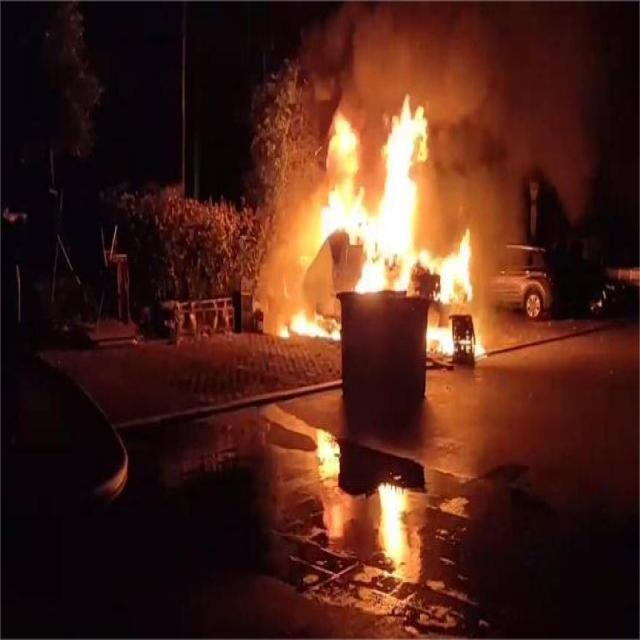Fire: (322, 96, 427, 294), (426, 230, 474, 306), (281, 309, 341, 344), (427, 317, 454, 358)
Smoke: (304, 2, 594, 93), (430, 92, 590, 228), (258, 170, 320, 302)
